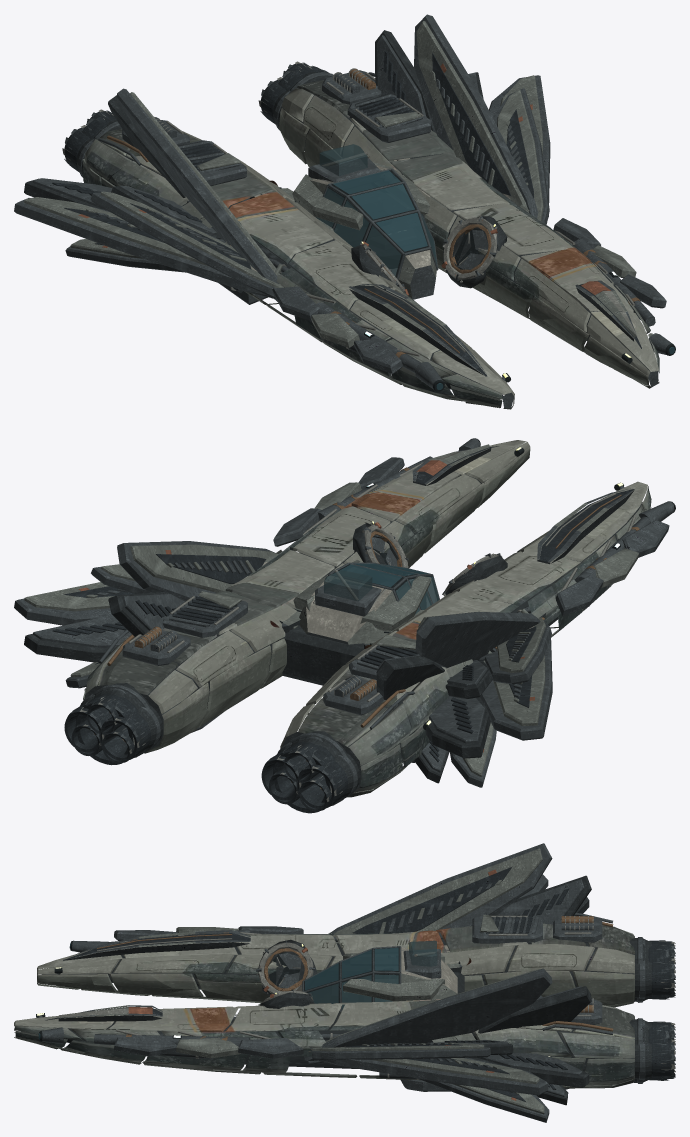
Rendered from convoy.glb.
The picture shows the model from 3 angles, top to bottom: view 1: azimuth 30°, elevation 25°; view 2: azimuth 150°, elevation 25°; view 3: azimuth 270°, elevation 25°; orthographic projection. The views are drawn at different scales.
Visible parts, largest first — view 1: convoy-hull-lance-starboard-lod0, convoy-hull-lance-port-lod0, convoy-vane-folded-starboard-lod0, convoy-bridge-gangway-lod0, convoy-vane-cascade-port-lod0, convoy-vane-swept-port-lod0, convoy-bridge-lantern-lod0, convoy-vane-folded-port-lod0, convoy-bridge-armoured-lod0, convoy-hull-mantle-port-lod0, convoy-hull-mantle-starboard-lod0, convoy-vane-cascade-starboard-lod0 (+6 smaller); view 2: convoy-hull-lance-starboard-lod0, convoy-hull-lance-port-lod0, convoy-vane-folded-starboard-lod0, convoy-vane-swept-port-lod0, convoy-vane-folded-port-lod0, convoy-bridge-gangway-lod0, convoy-vane-swept-starboard-lod0, convoy-vane-cascade-port-lod0, convoy-bridge-lantern-lod0, convoy-hull-mantle-port-lod0, convoy-hull-mantle-starboard-lod0, convoy-bridge-armoured-lod0 (+9 smaller); view 3: convoy-hull-lance-port-lod0, convoy-hull-lance-starboard-lod0, convoy-vane-folded-port-lod0, convoy-vane-folded-starboard-lod0, convoy-vane-swept-starboard-lod0, convoy-vane-cascade-starboard-lod0, convoy-bridge-gangway-lod0, convoy-hull-mantle-starboard-lod0, convoy-bridge-armoured-lod0, convoy-bridge-lantern-lod0, convoy-hull-mantle-port-lod0, convoy-drive-duplex-starboard-lod0 (+5 smaller).
Part boxes in pixels (<box>): convoy-hull-lance-starboard-lod0: <box>279,68,675,388</box>; convoy-hull-lance-port-lod0: <box>82,117,514,409</box>; convoy-vane-folded-starboard-lod0: <box>375,14,538,217</box>; convoy-bridge-gangway-lod0: <box>249,158,447,299</box>; convoy-vane-cascade-port-lod0: <box>65,185,283,298</box>; convoy-vane-swept-port-lod0: <box>14,178,283,298</box>; convoy-bridge-lantern-lod0: <box>251,144,438,298</box>; convoy-vane-folded-port-lod0: <box>108,88,279,283</box>; convoy-bridge-armoured-lod0: <box>292,162,436,275</box>; convoy-hull-mantle-port-lod0: <box>180,141,505,390</box>; convoy-hull-mantle-starboard-lod0: <box>321,68,675,355</box>; convoy-vane-cascade-starboard-lod0: <box>493,88,549,224</box>; convoy-hull-lance-starboard-lod0: <box>83,438,530,753</box>; convoy-hull-lance-port-lod0: <box>280,481,675,797</box>; convoy-vane-folded-starboard-lod0: <box>108,541,278,636</box>; convoy-vane-swept-port-lod0: <box>425,618,552,758</box>; convoy-vane-folded-port-lod0: <box>376,611,540,699</box>; convoy-bridge-gangway-lod0: <box>273,562,439,684</box>; convoy-vane-swept-starboard-lod0: <box>14,582,134,662</box>; convoy-vane-cascade-port-lod0: <box>414,617,551,787</box>; convoy-bridge-lantern-lod0: <box>278,563,438,685</box>; convoy-hull-mantle-port-lod0: <box>330,485,669,703</box>; convoy-hull-mantle-starboard-lod0: <box>83,457,484,710</box>; convoy-bridge-armoured-lod0: <box>293,560,438,631</box>; convoy-hull-lance-port-lod0: <box>37,913,634,1007</box>; convoy-hull-lance-starboard-lod0: <box>14,989,634,1091</box>; convoy-vane-folded-port-lod0: <box>329,843,591,943</box>; convoy-vane-folded-starboard-lod0: <box>304,968,591,1060</box>; convoy-vane-swept-starboard-lod0: <box>306,1046,589,1095</box>; convoy-vane-cascade-starboard-lod0: <box>311,1040,568,1122</box>; convoy-bridge-gangway-lod0: <box>303,945,464,1011</box>; convoy-hull-mantle-starboard-lod0: <box>39,990,633,1079</box>; convoy-bridge-armoured-lod0: <box>309,948,444,1008</box>; convoy-bridge-lantern-lod0: <box>296,940,461,1008</box>; convoy-hull-mantle-port-lod0: <box>70,916,600,993</box>; convoy-drive-duplex-starboard-lod0: <box>625,1025,675,1079</box>.
Size of what is drawn, in the model's own units: 7.74 by 2.3 by 9.93.
16 materials, 11 textured.
